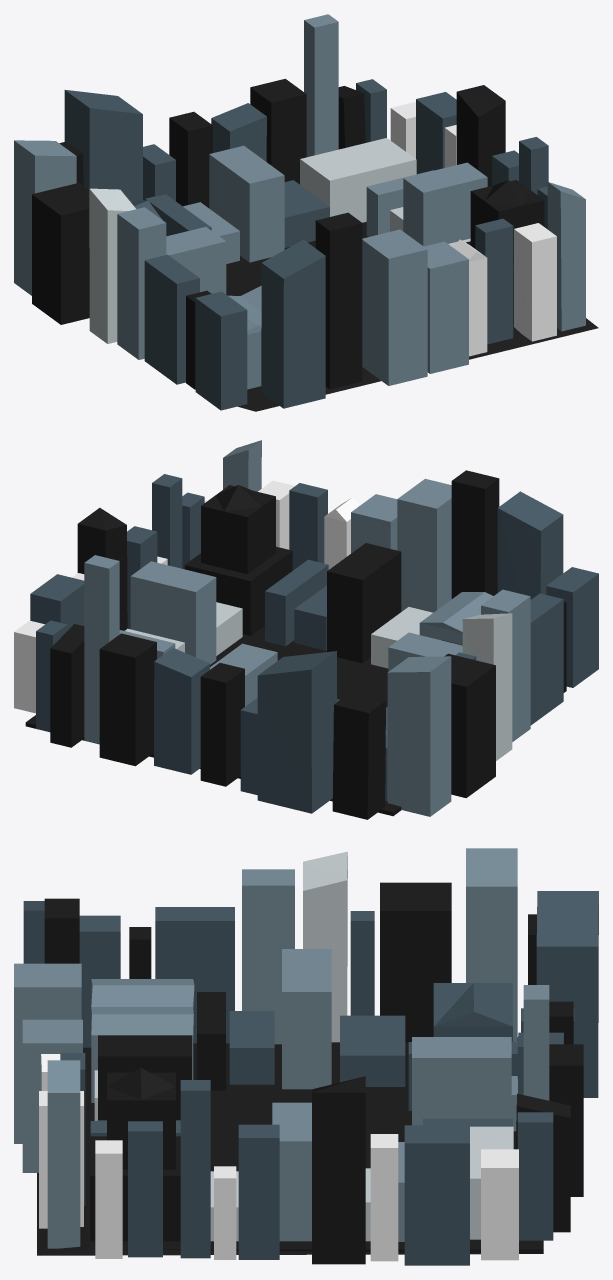
The model's file is scene_6IT6dsoaX5.glb.
The picture shows the model from 3 angles, top to bottom: view 1: azimuth 30°, elevation 25°; view 2: azimuth 150°, elevation 25°; view 3: azimuth 270°, elevation 25°; orthographic projection. The views are drawn at different scales.
Parts seen in each view (by area): view 1: group528147799, group425845929; view 2: group528147799, group425845929; view 3: group528147799, group425845929.
Part boxes in pixels (<box>): group528147799: <box>14,14,598,411</box>; group425845929: <box>470,180,544,263</box>; group528147799: <box>14,440,598,819</box>; group425845929: <box>201,485,275,574</box>; group528147799: <box>14,848,598,1265</box>; group425845929: <box>107,1067,175,1169</box>.
Bounding box in the file's own units: 9.03 × 3.7 × 8.81.
